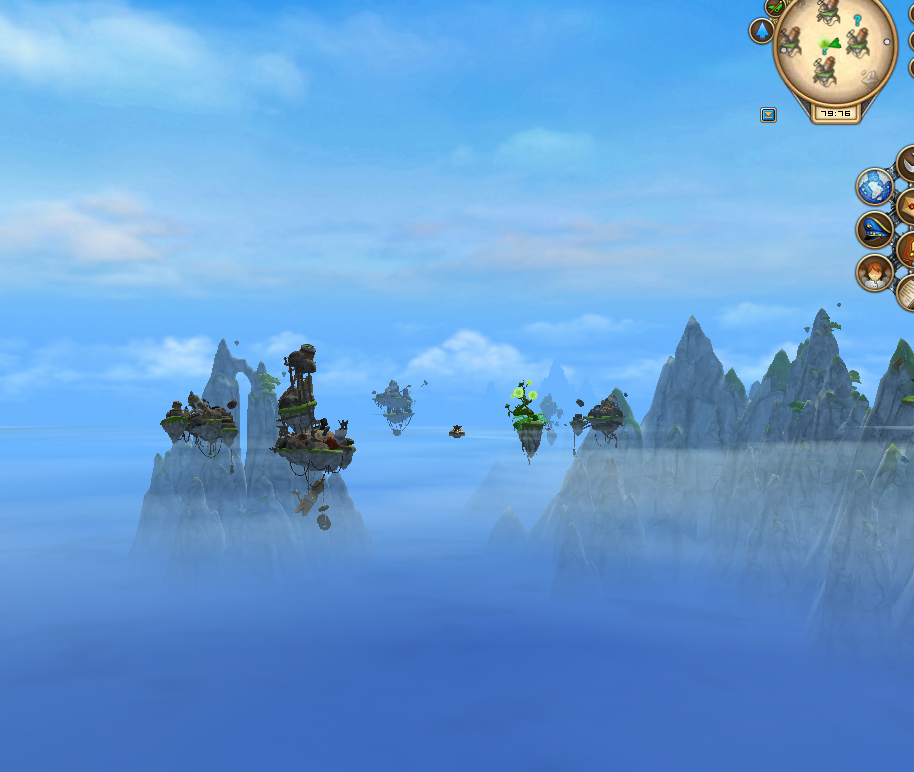dandelion-full: (504, 376, 549, 440)
